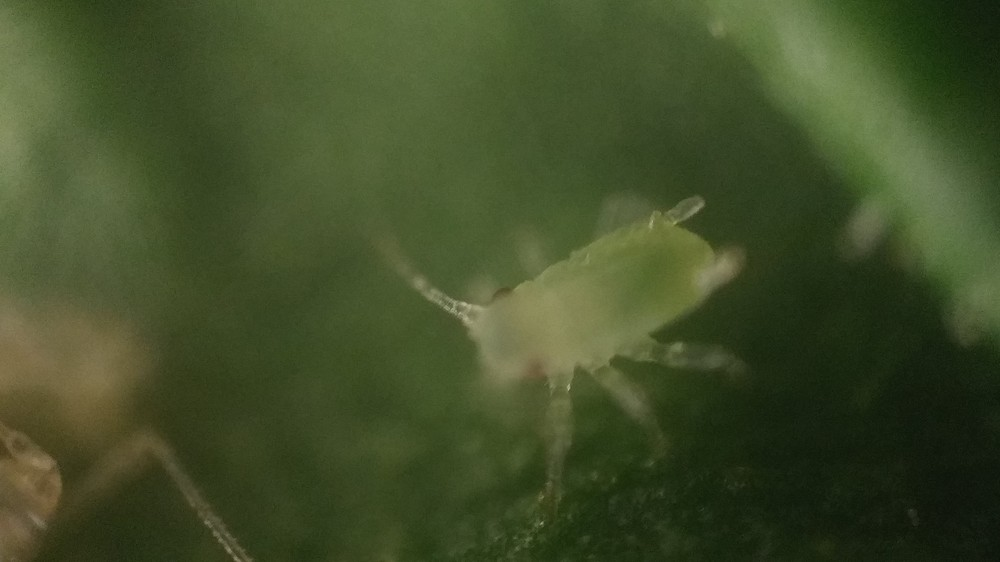Pulgon: (374, 174, 795, 486)
